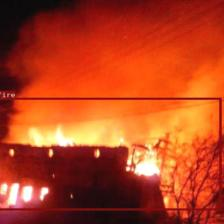fire: (0, 97, 221, 210)
